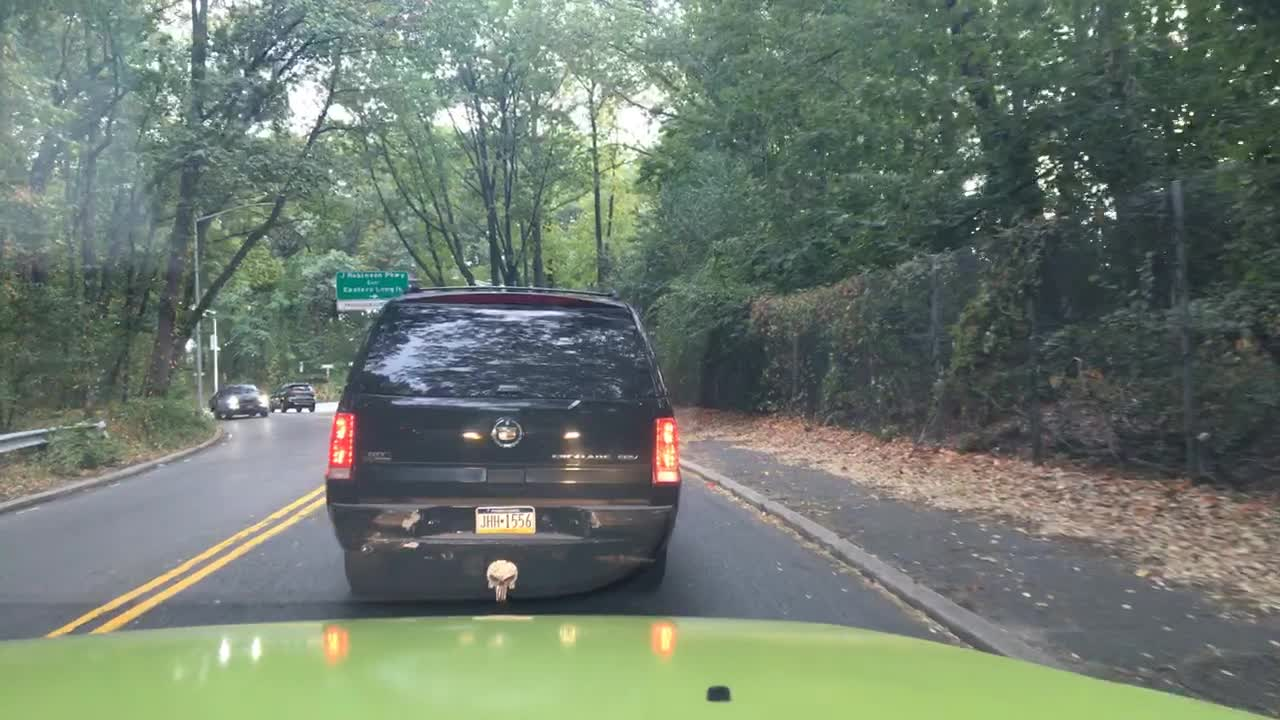car: (325, 282, 684, 617), (207, 382, 269, 420), (268, 379, 317, 414)
traffic sign: (334, 270, 413, 311), (184, 339, 197, 352), (208, 331, 215, 351)
